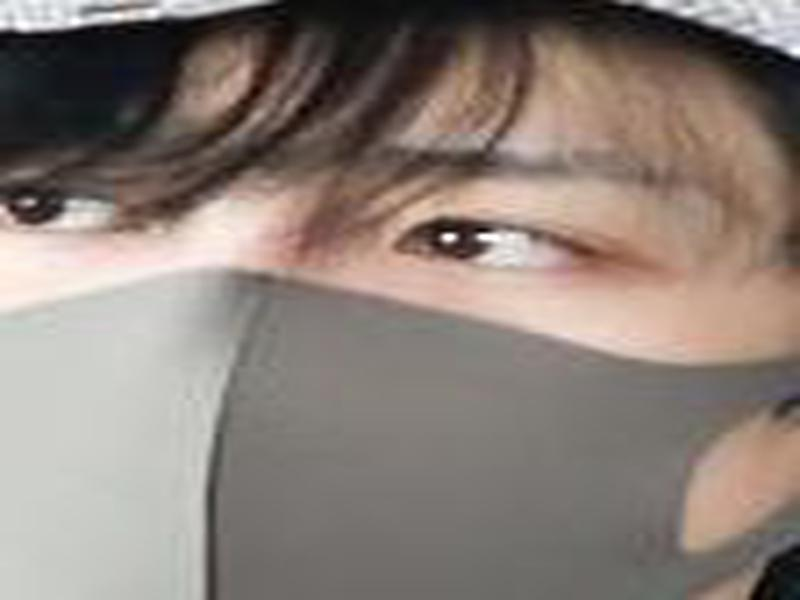with_mask: (1, 11, 796, 600)
